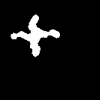single_crochet: (11, 15, 59, 56)
